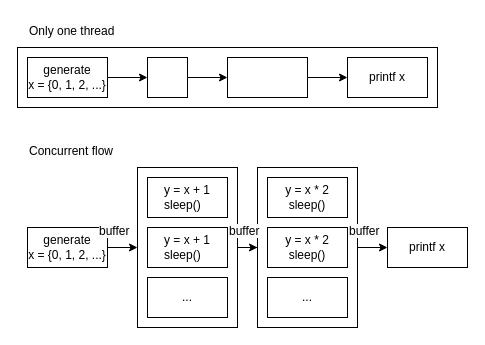
This 485x345 diagram has some shape labels left out. Each missing label, with the box of its shape:
x = x * 2 sleep(): (226, 56, 308, 98)
x++ sleep(): (146, 56, 188, 98)
